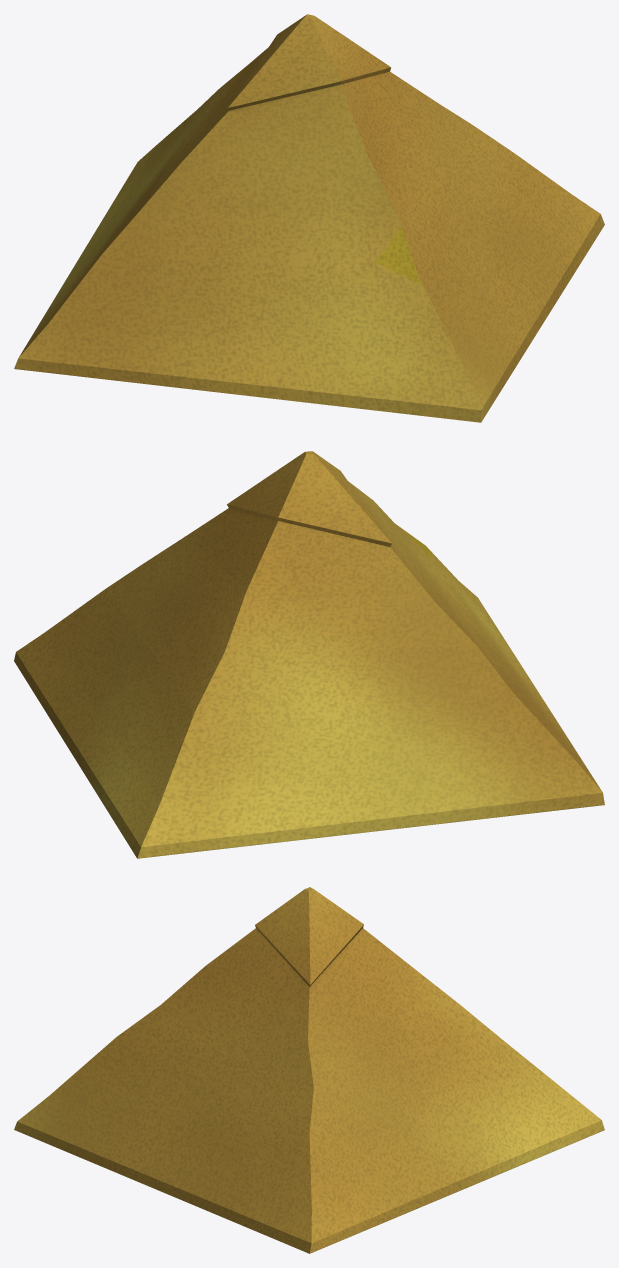
The model's file is c325c0f2-9c30-427a-acfe-c11d466a3c5d.glb.
The picture shows the model from 3 angles, top to bottom: view 1: azimuth 30°, elevation 25°; view 2: azimuth 150°, elevation 25°; view 3: azimuth 270°, elevation 25°; orthographic projection. The views are drawn at different scales.
Visible parts, largest first — view 1: Pyramid_mesh; view 2: Pyramid_mesh; view 3: Pyramid_mesh.
Part boxes in pixels (x1,y1,x2,y2): Pyramid_mesh: (14,14,604,422); Pyramid_mesh: (14,451,604,858); Pyramid_mesh: (14,887,604,1253).
Bounding box in the file's own units: 10.63 × 4.82 × 10.71.
Materials: 1 (1 with a texture image).
